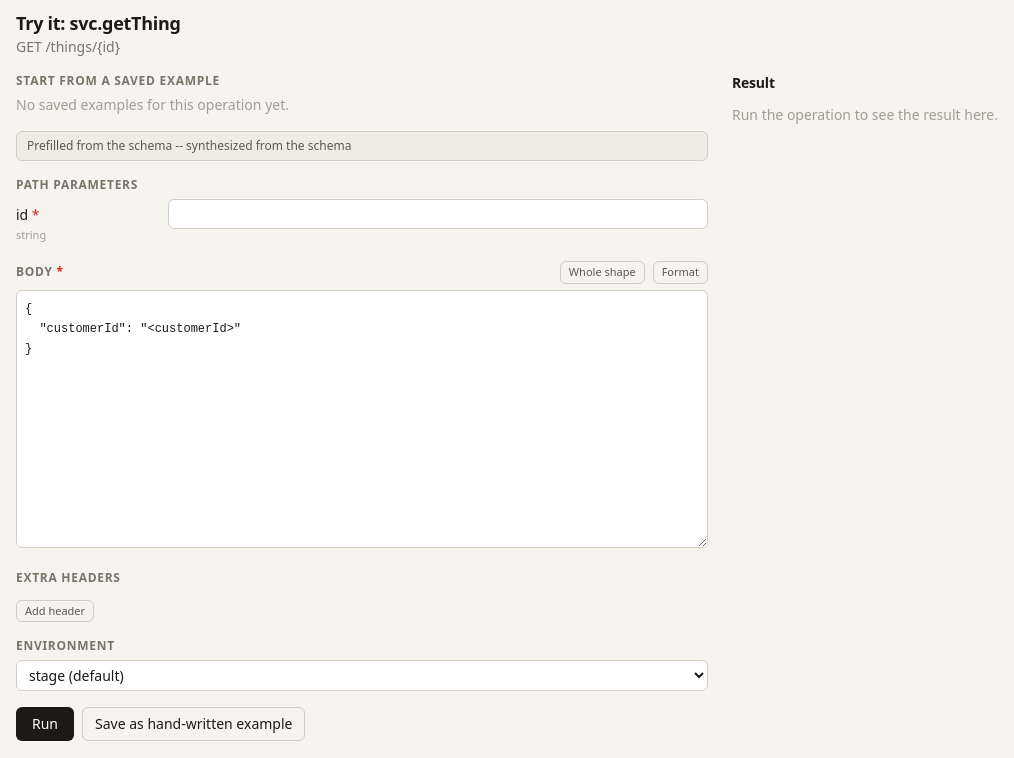
Test: TryIt › fills the whole shape from the daemon when asked, and drops the source label
This screenshot has width=1014, height=758.
Check: the text "Prefilled from the schema -- synthesized from the schema" is shown, box [16,131,708,161]
Click the button "Whole shape" at (602, 272), box [560,261,645,284]
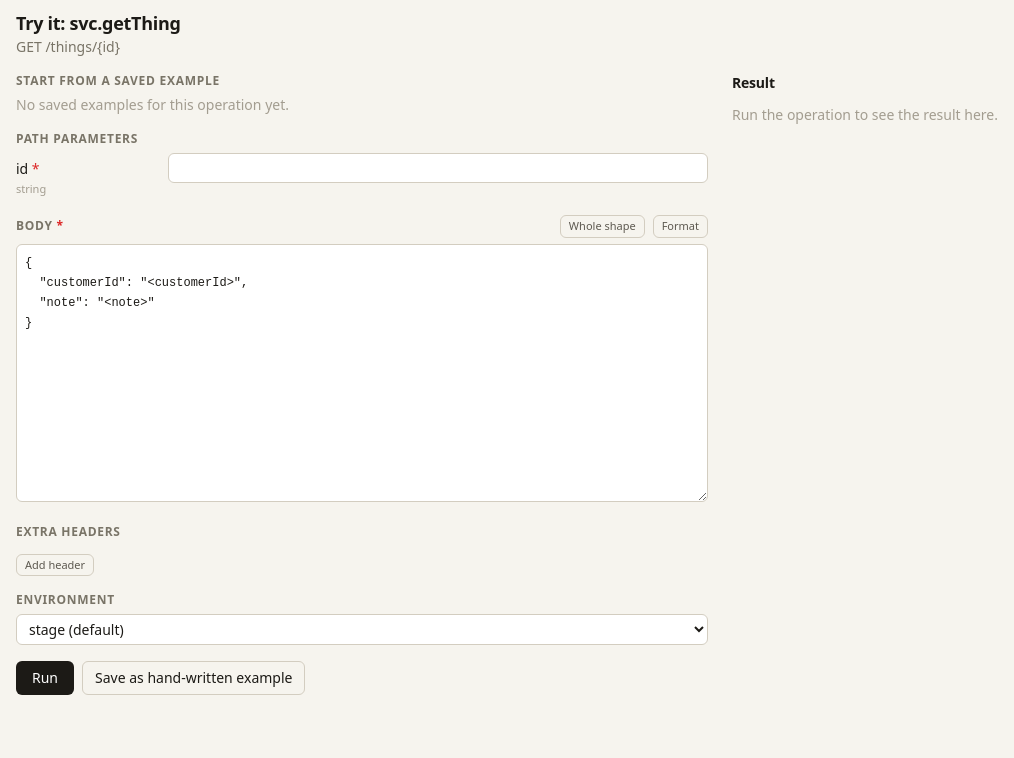
Check: the text "Prefilled from the schema" is gone
